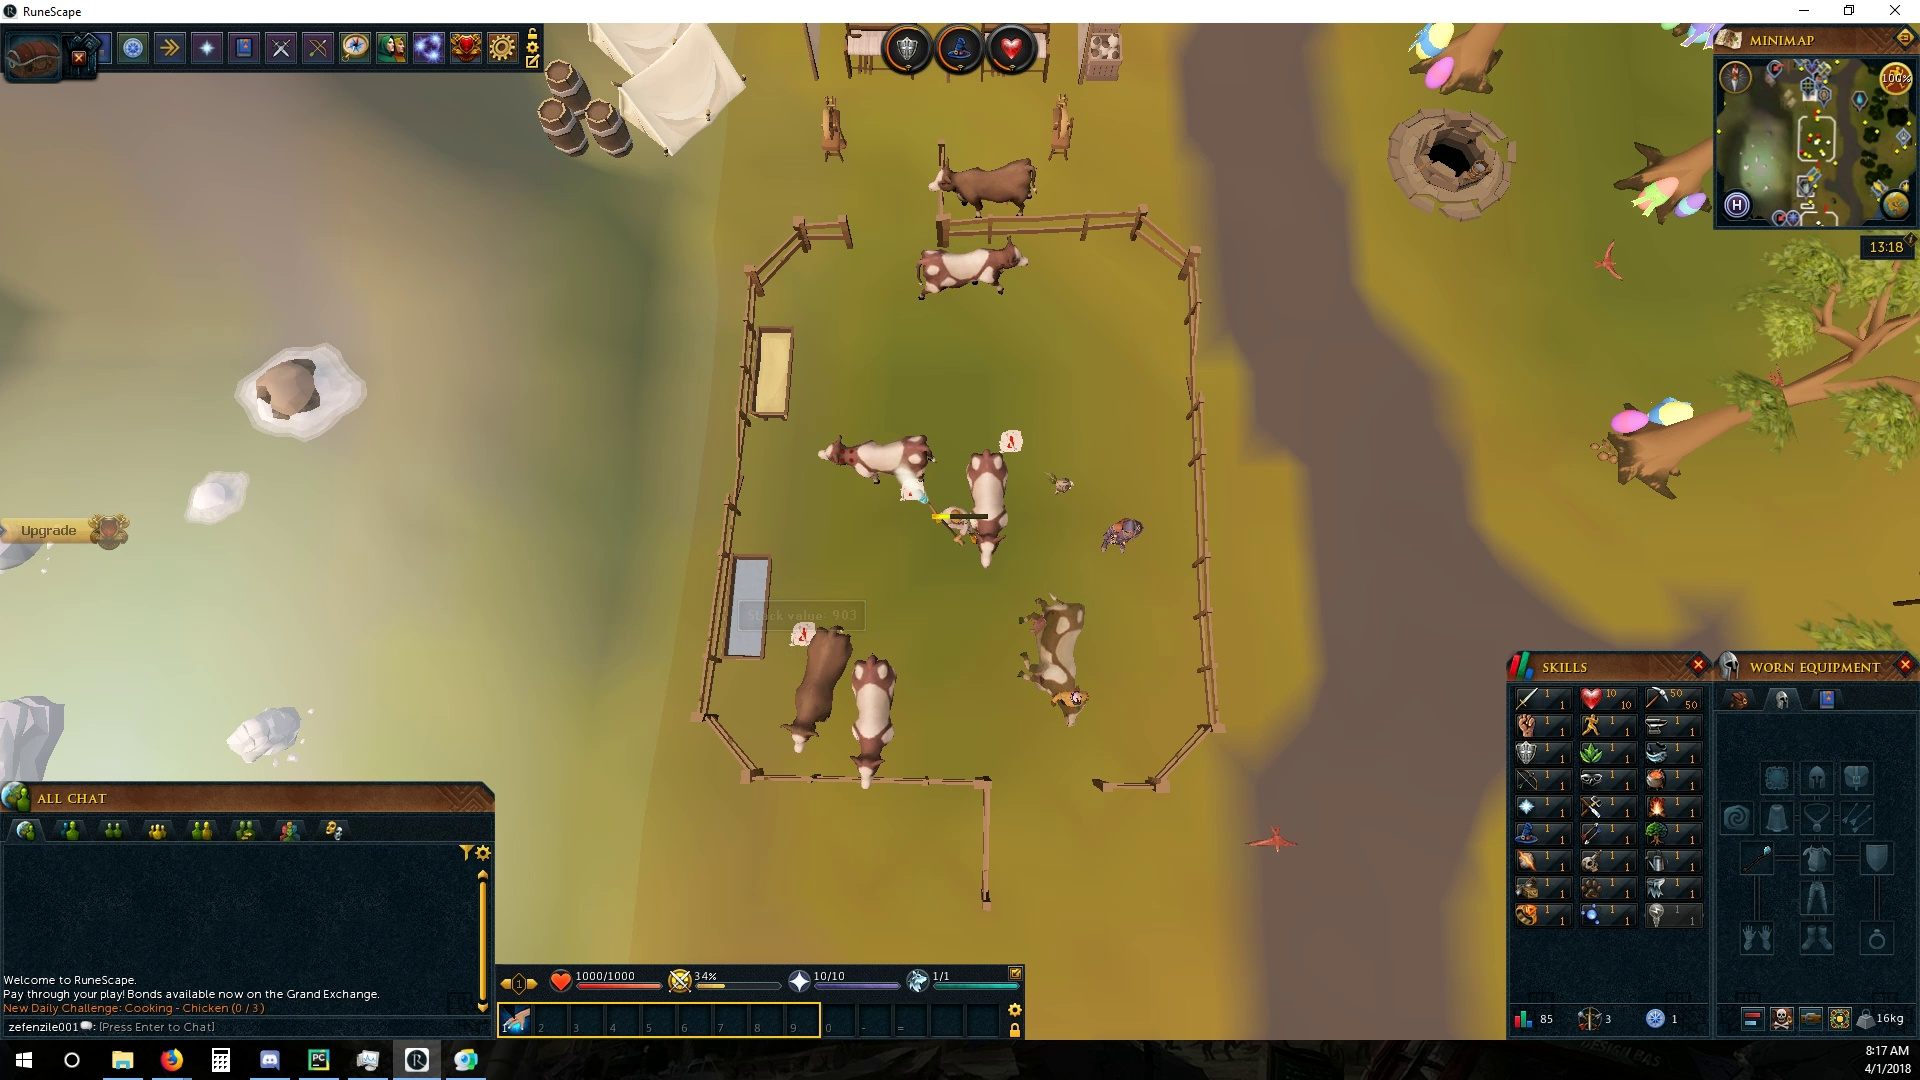cow: (781, 624, 856, 757), (913, 231, 1031, 302), (926, 154, 1040, 222), (960, 448, 1015, 570), (849, 654, 898, 791), (816, 433, 942, 485)
cow_drop: (891, 471, 936, 502), (785, 618, 822, 647), (996, 429, 1027, 455)
